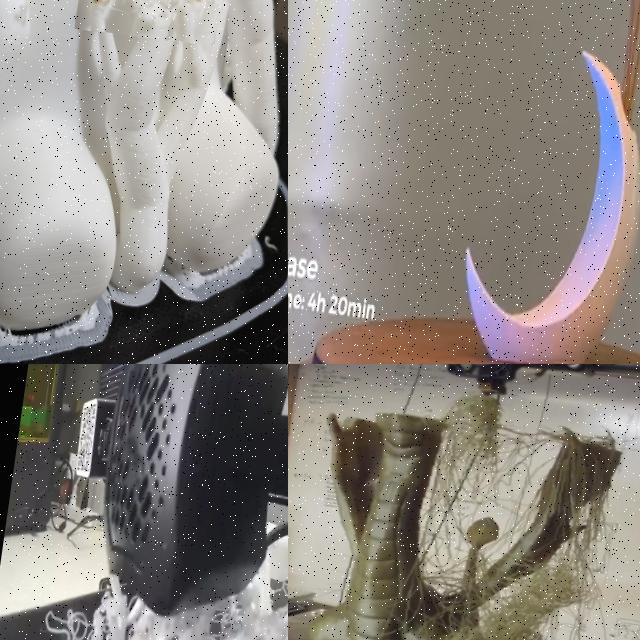spaghetti: (288, 364, 640, 640), (75, 0, 233, 49), (15, 609, 142, 640)
